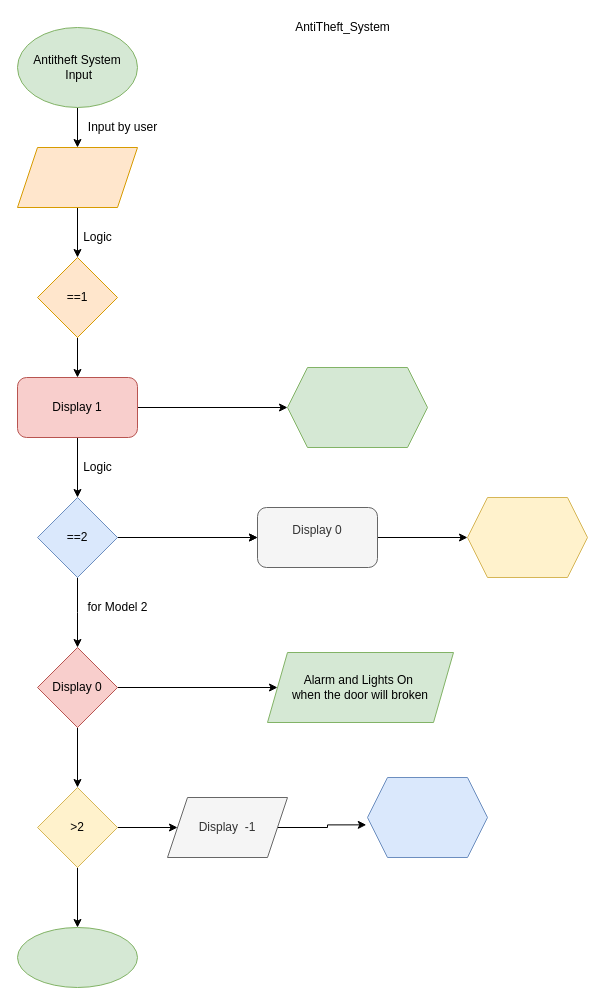
The diagram is 605 pixels wide and 1005 high, and some of its shapes have lost their labels. Here are the shapes that lost their labels. From the top down, the centre of each, then its label:
the point at 77,177: 1 and 2
the point at 357,407: Door is opening properly while unlocking
the point at 527,537: Door is broken by someone
the point at 427,817: Door is Properly Closed and Safe Noone is there
the point at 77,957: end
